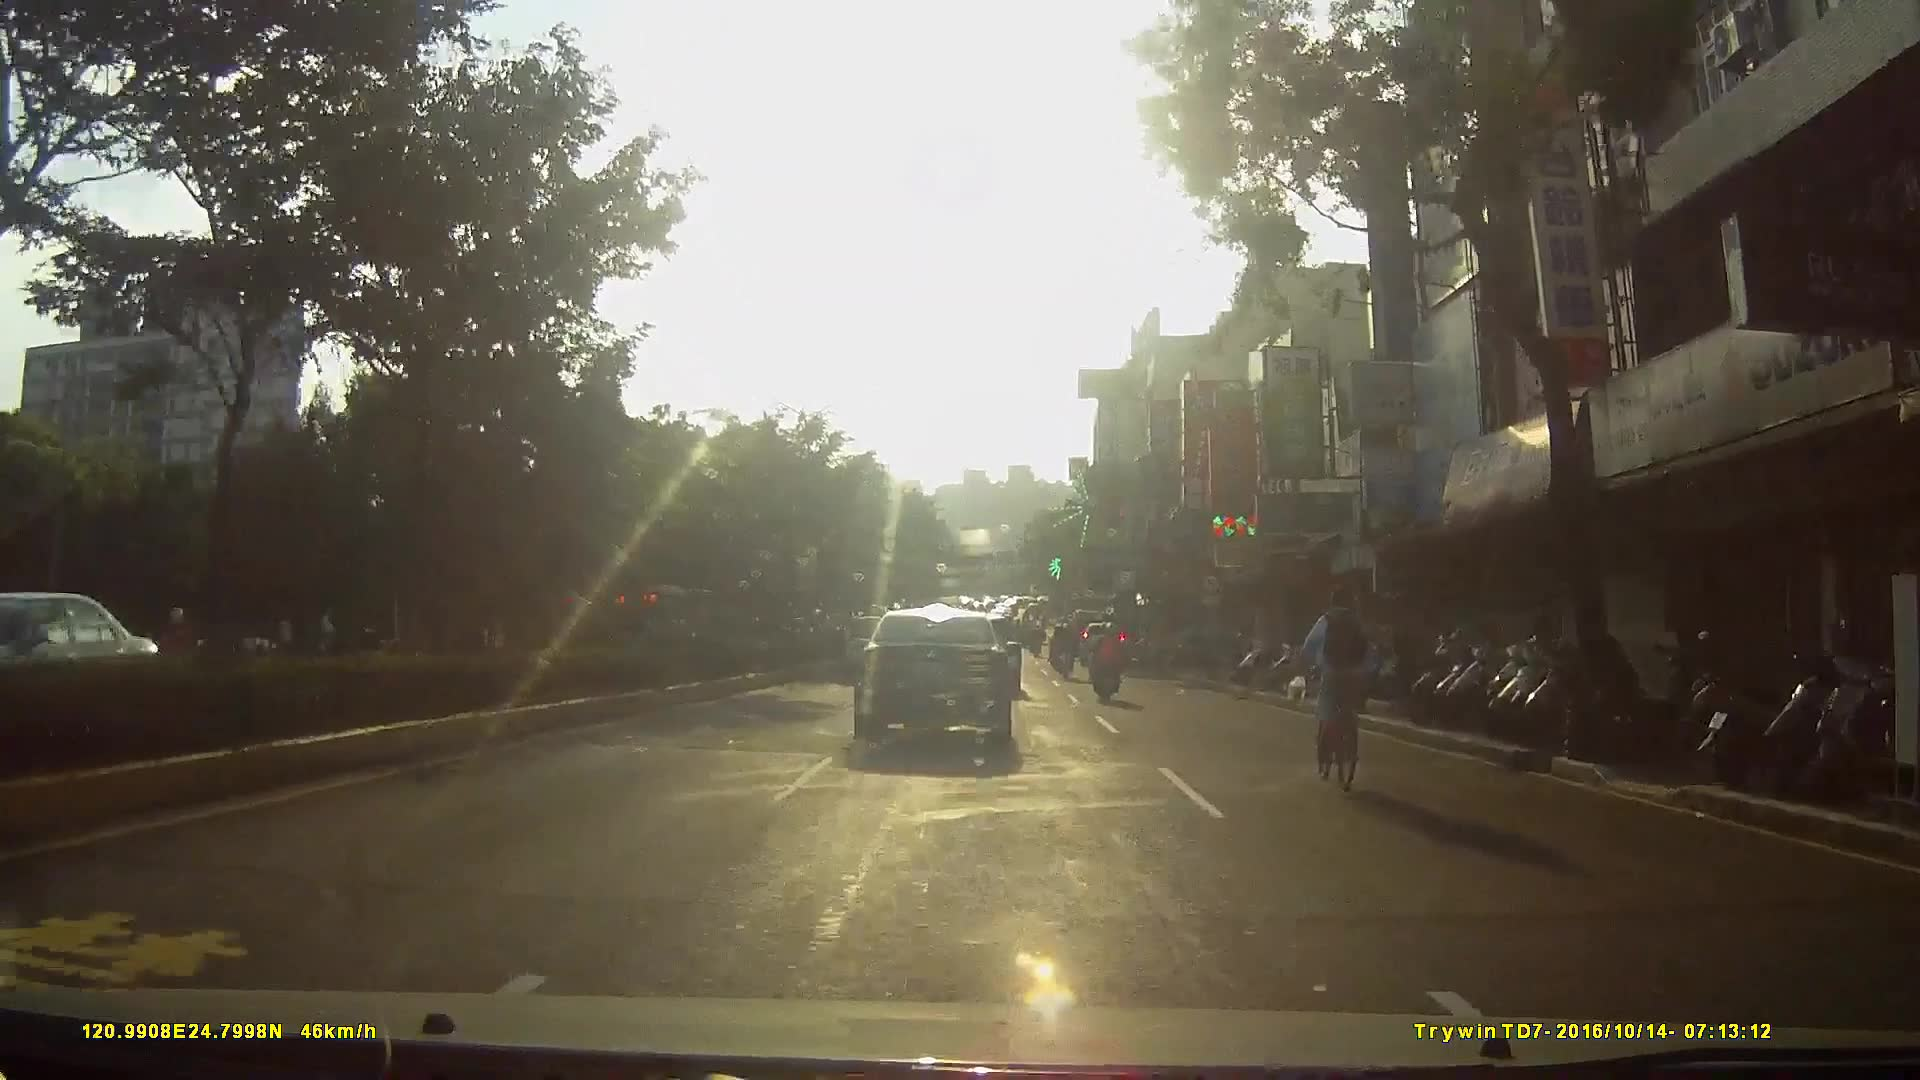rider: (1297, 583, 1380, 787), (1088, 624, 1123, 709), (1049, 621, 1076, 680)
vehicle: (853, 604, 1032, 767), (1, 598, 182, 709)
